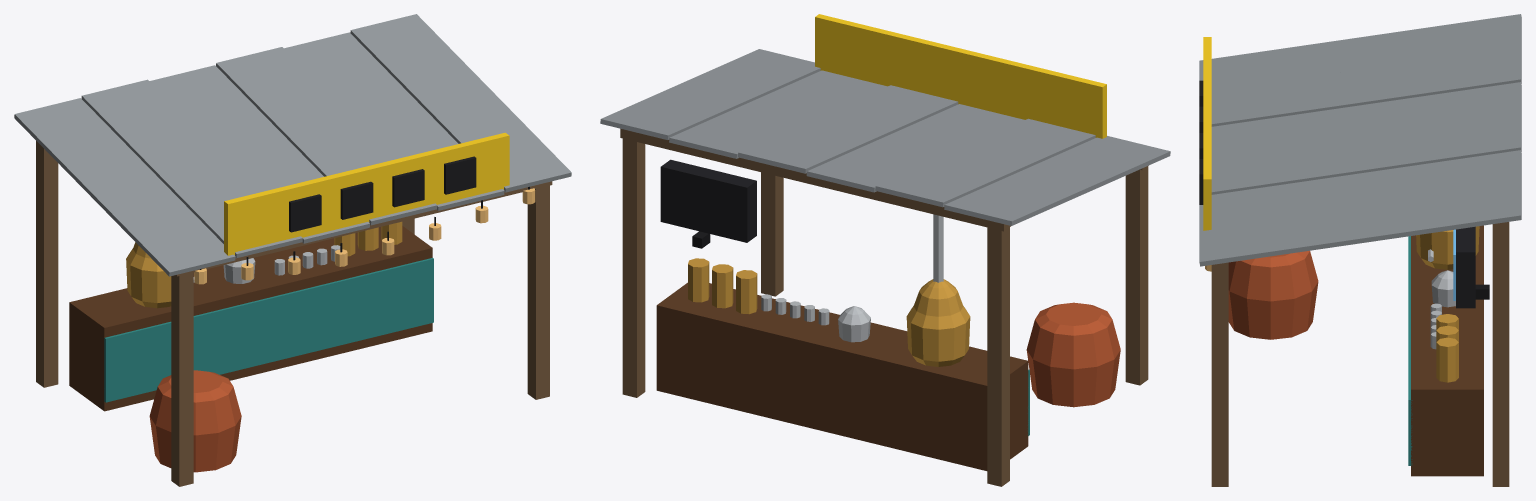
File: dhaba.glb
The picture shows the model from 3 angles, left to right: view 1: azimuth 30°, elevation 25°; view 2: azimuth 150°, elevation 25°; view 3: azimuth 270°, elevation 25°; orthographic projection. The views are drawn at different scales.
Visible parts, largest first — view 1: Dhaba_Tin, Dhaba_Tiles, Dhaba_Poles, Dhaba_Counter, Dhaba_Sign, Dhaba_Clay, Dhaba_SignText, Dhaba_Brass, Dhaba_Bulbs, Dhaba_Steel; view 2: Dhaba_Tin, Dhaba_Counter, Dhaba_Poles, Dhaba_Sign, Dhaba_Clay, Dhaba_Brass, Dhaba_TV, Dhaba_Steel; view 3: Dhaba_Tin, Dhaba_Counter, Dhaba_Poles, Dhaba_Clay, Dhaba_Brass, Dhaba_Sign, Dhaba_TV, Dhaba_Steel, Dhaba_Tiles, Dhaba_SignText.
Boxes of the visible parts, x1,y1,x2,y2 form: Dhaba_Tin: (14, 14, 571, 276); Dhaba_Tiles: (104, 257, 433, 402); Dhaba_Poles: (36, 141, 552, 486); Dhaba_Counter: (69, 226, 432, 411); Dhaba_Sign: (224, 132, 509, 255); Dhaba_Clay: (149, 370, 241, 472); Dhaba_SignText: (289, 156, 476, 232); Dhaba_Brass: (126, 221, 402, 308); Dhaba_Bulbs: (194, 188, 535, 284); Dhaba_Steel: (193, 245, 340, 283); Dhaba_Tin: (600, 49, 1170, 225); Dhaba_Counter: (656, 282, 1028, 470); Dhaba_Poles: (620, 128, 1148, 486); Dhaba_Sign: (815, 14, 1106, 138); Dhaba_Clay: (1026, 302, 1120, 407); Dhaba_Brass: (688, 258, 970, 366); Dhaba_TV: (660, 159, 756, 242); Dhaba_Steel: (761, 214, 943, 342); Dhaba_Tin: (1199, 14, 1521, 266); Dhaba_Counter: (1411, 225, 1483, 476); Dhaba_Poles: (1211, 222, 1509, 486); Dhaba_Clay: (1228, 250, 1318, 339); Dhaba_Brass: (1416, 226, 1479, 382); Dhaba_Sign: (1203, 37, 1211, 230); Dhaba_TV: (1456, 226, 1475, 308); Dhaba_Steel: (1428, 249, 1455, 349); Dhaba_Tiles: (1408, 236, 1412, 465); Dhaba_SignText: (1199, 80, 1203, 204).
Size of the model in its own units: 17.15 by 11.2 by 11.49.
